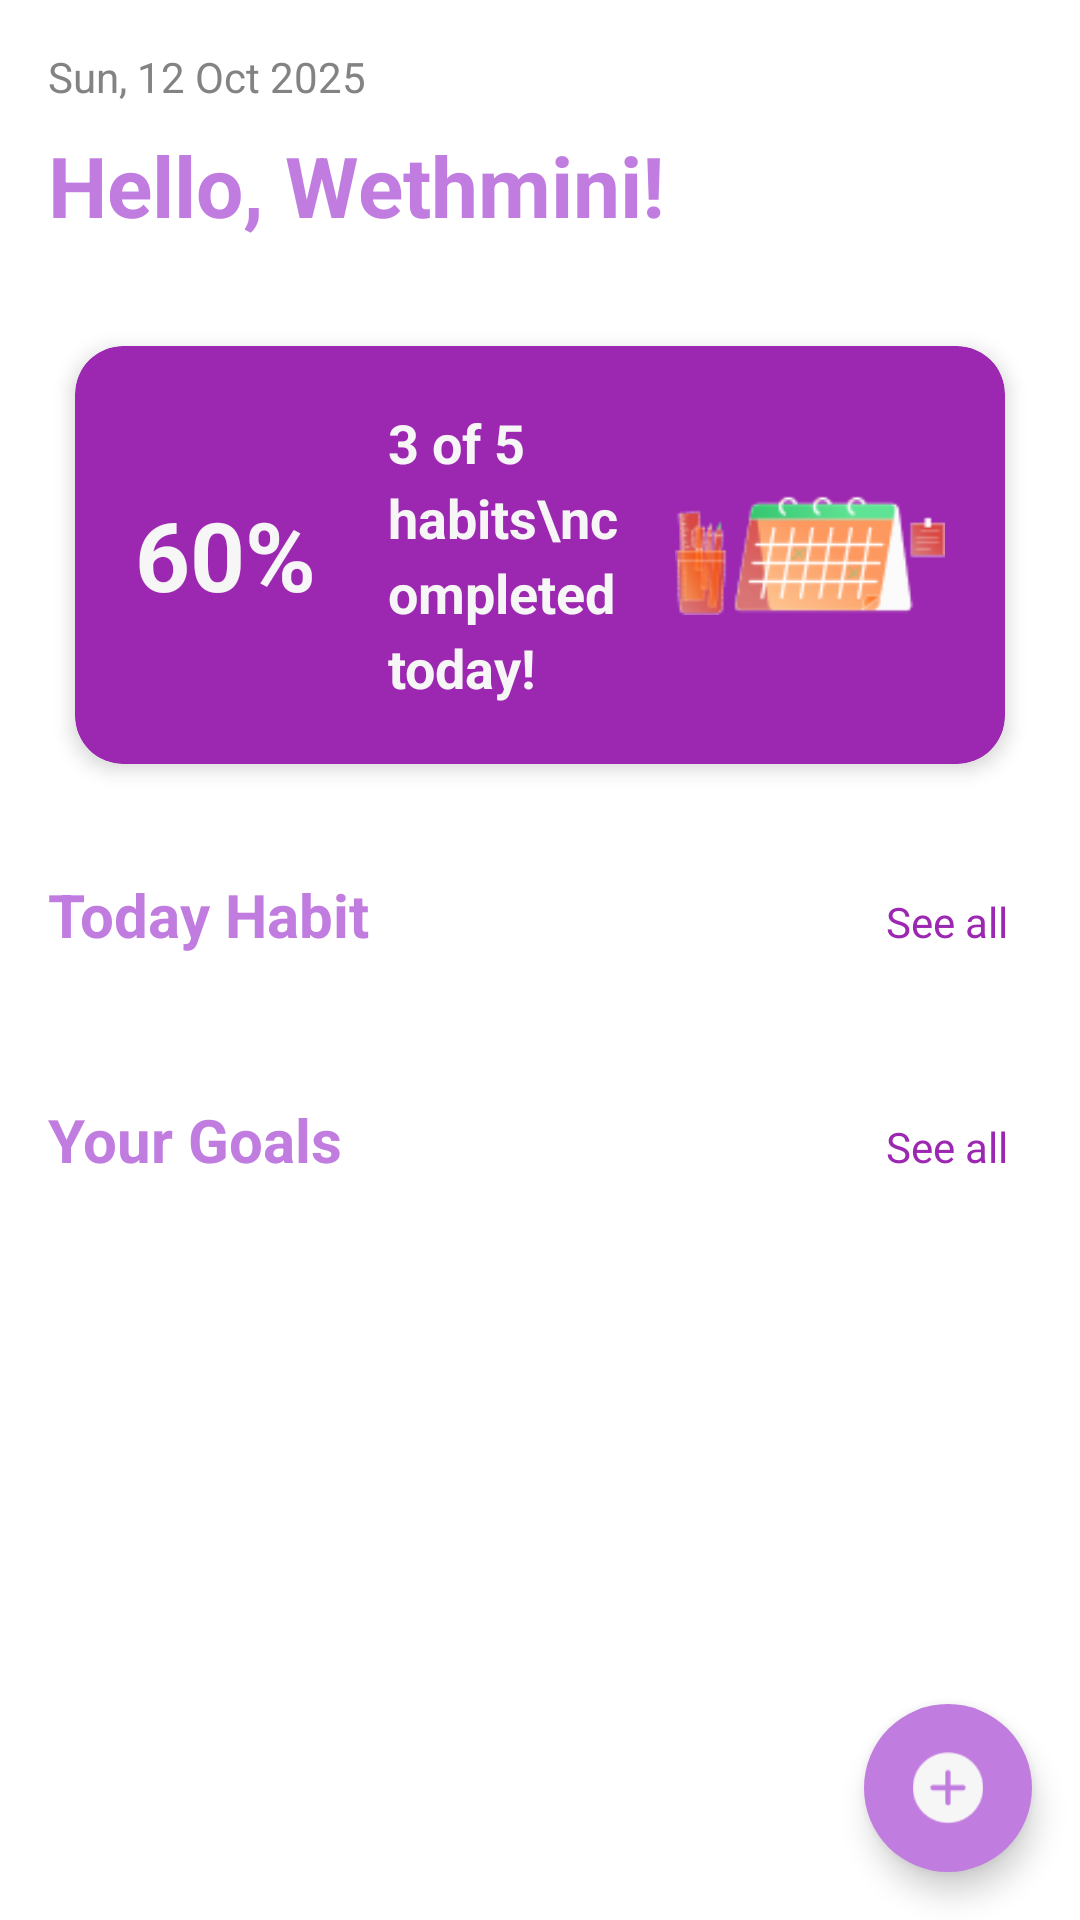

Point at icon controls on the screen. Image size 1080px x 1920px, points as [x,y].
add: [948,1788]
calendar: [810,555]
